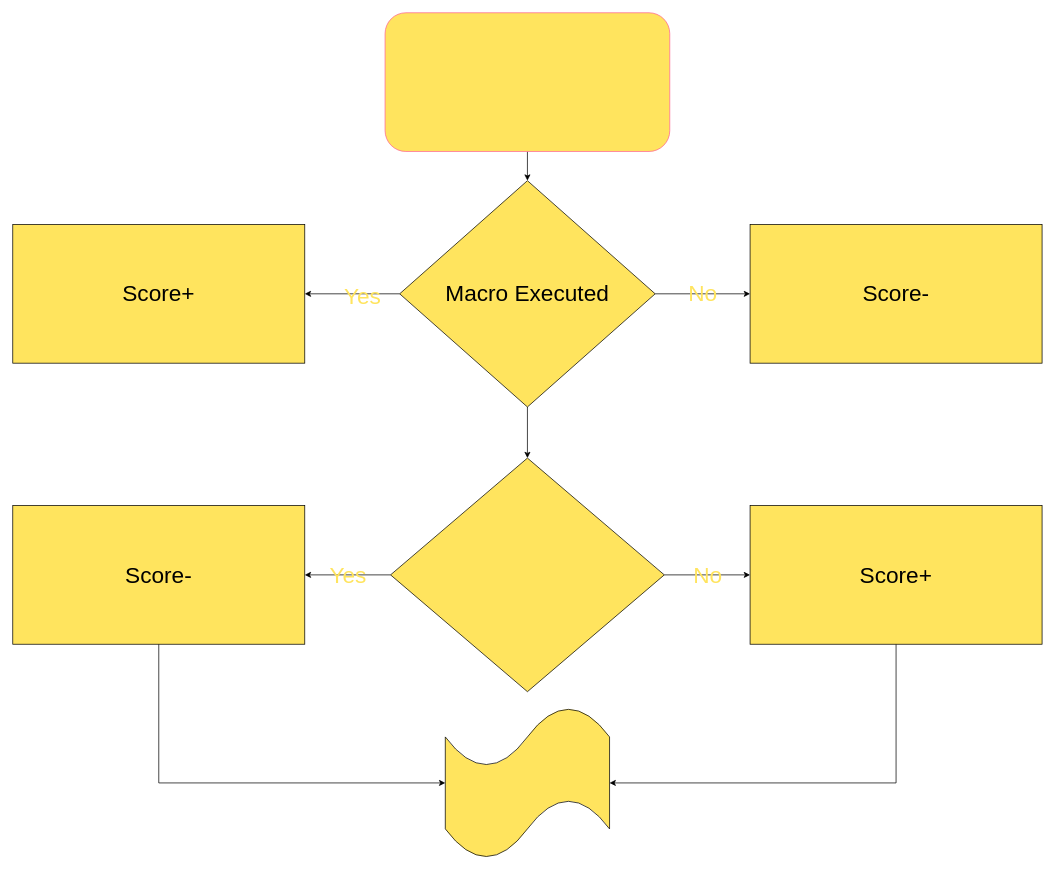
Some shapes in this 1055 by 872 pixel diagram are drawn without their labels. The shapes that lost their labels are listed below. From the top down, each one's centre as x and y in pixels, then its label:
At [527,81]: "Alerting Strategy".
At [527,574]: "Trusted Location".
At [527,783]: "Score Total".
